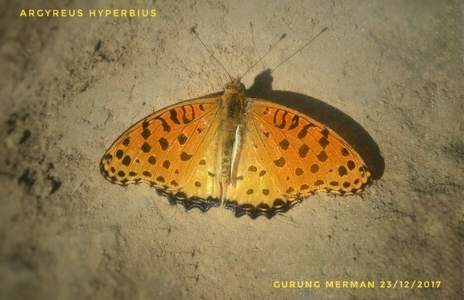Argyreus hyperbius: (94, 22, 377, 219)
butterfly: (96, 24, 379, 221)
